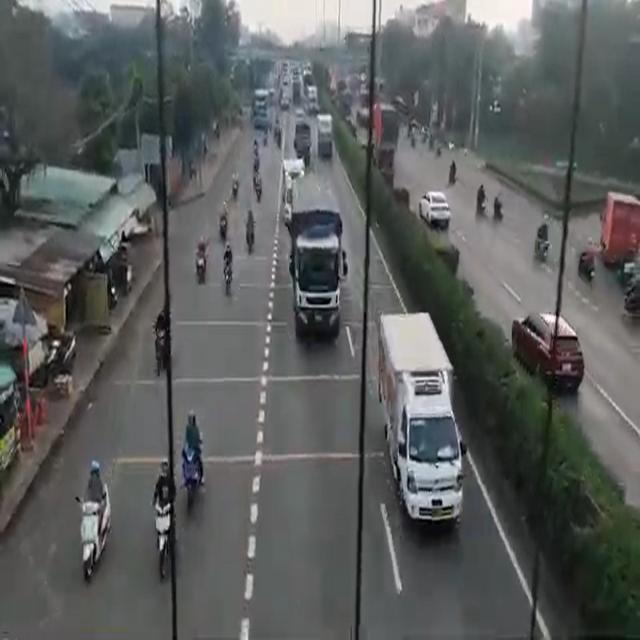bus: (252, 87, 272, 136)
car: (515, 312, 582, 388), (418, 192, 451, 230)
motor: (78, 471, 110, 585), (152, 483, 174, 589), (180, 413, 202, 501), (574, 232, 593, 282), (156, 309, 167, 378), (535, 214, 550, 262), (472, 176, 486, 222), (223, 243, 234, 300), (192, 236, 204, 287), (245, 208, 257, 256), (490, 186, 504, 222), (217, 200, 228, 243), (232, 169, 242, 203), (254, 167, 263, 204)
truck: (377, 310, 466, 520), (291, 176, 341, 330), (317, 110, 334, 158), (295, 123, 310, 168)
